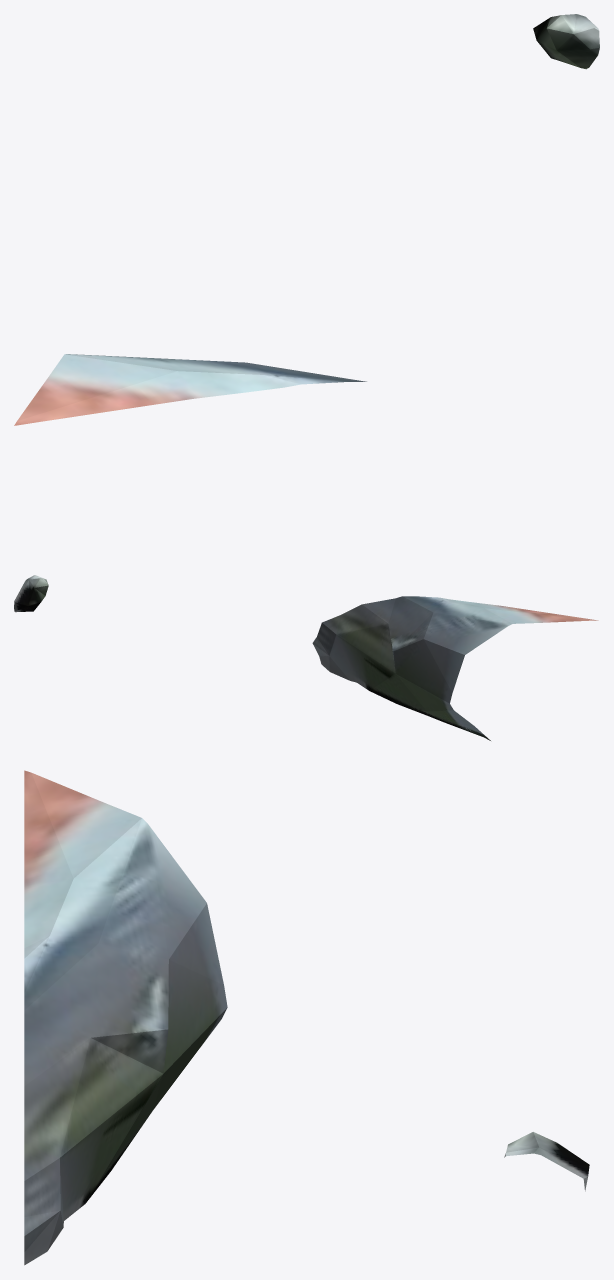
The picture shows the model from 3 angles, top to bottom: view 1: azimuth 30°, elevation 25°; view 2: azimuth 150°, elevation 25°; view 3: azimuth 270°, elevation 25°; orthographic projection. The views are drawn at different scales.
Bounding box in the file's own units: 3.27 × 0.9958 × 1.8.
1 material, 1 textured.
